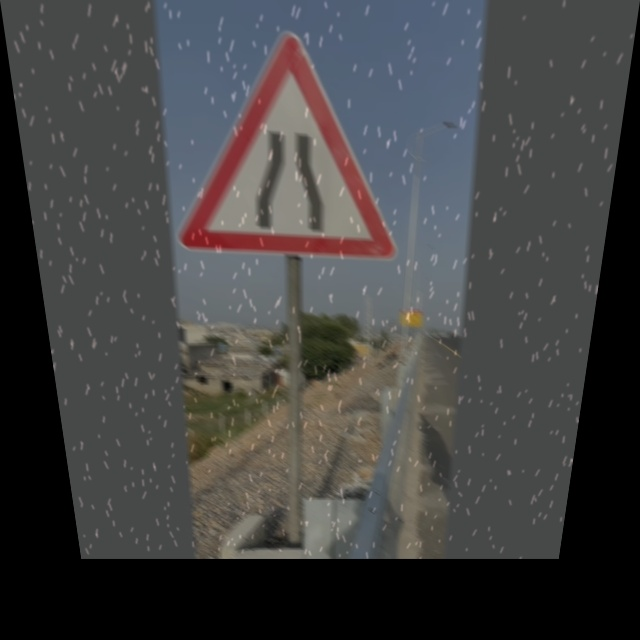Narrow_Road_Ahead: (180, 32, 403, 259)
